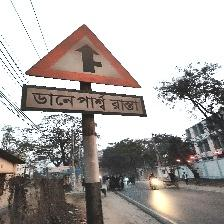Side-road-right: (21, 23, 146, 118)
